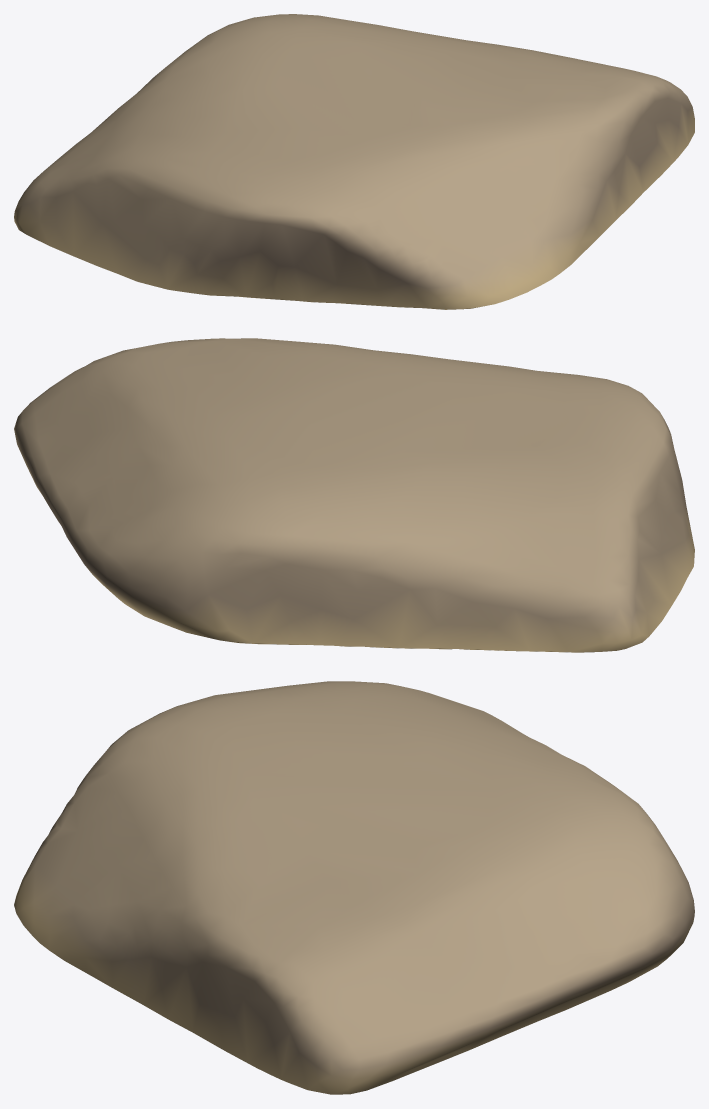
File: rock_flat.glb
3 views of the same model, one above another, from view 1: azimuth 30°, elevation 25°; view 2: azimuth 150°, elevation 25°; view 3: azimuth 270°, elevation 25° (orthographic). The views are drawn at different scales.
Parts seen in each view (by area): view 1: rock_flat_mesh; view 2: rock_flat_mesh; view 3: rock_flat_mesh.
Part boxes in pixels (x1=…): rock_flat_mesh: x1=14, y1=14, x2=694, y2=309; rock_flat_mesh: x1=14, y1=338, x2=694, y2=652; rock_flat_mesh: x1=14, y1=681, x2=694, y2=1094.
Bounding box in the file's own units: 1.85 × 0.2998 × 1.52.
